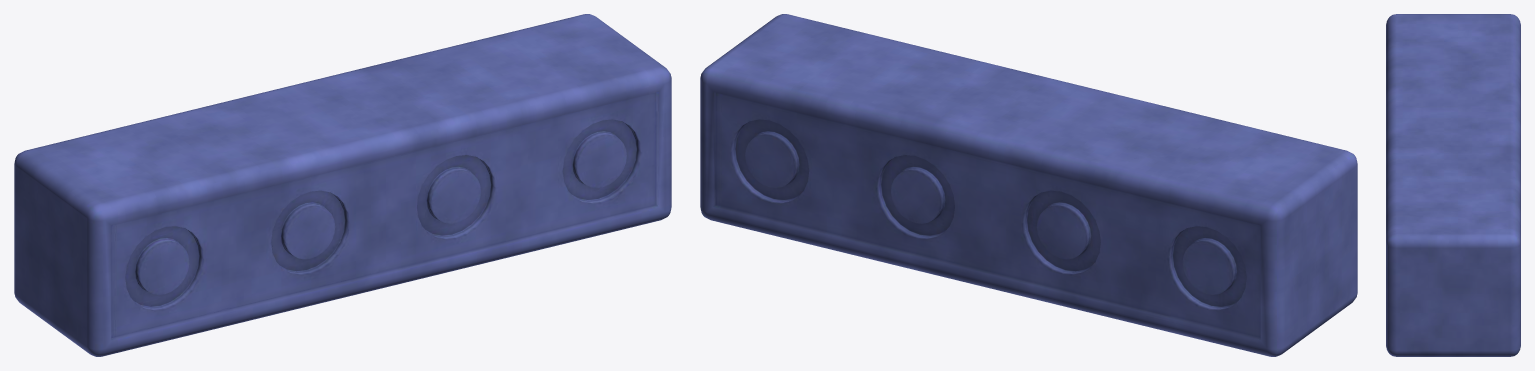
File: tas4.glb
3 views of the same model, side by side, from view 1: azimuth 30°, elevation 25°; view 2: azimuth 150°, elevation 25°; view 3: azimuth 270°, elevation 25° (orthographic). The views are drawn at different scales.
Parts seen in each view (by area): view 1: blok; view 2: blok; view 3: blok.
Part boxes in pixels (x1,y1,x2,y2): blok: [14, 14, 671, 356]; blok: [700, 14, 1357, 356]; blok: [1386, 14, 1520, 356].
Size of the model in its own units: 4 by 1 by 1.
Materials: 1 (1 with a texture image).
